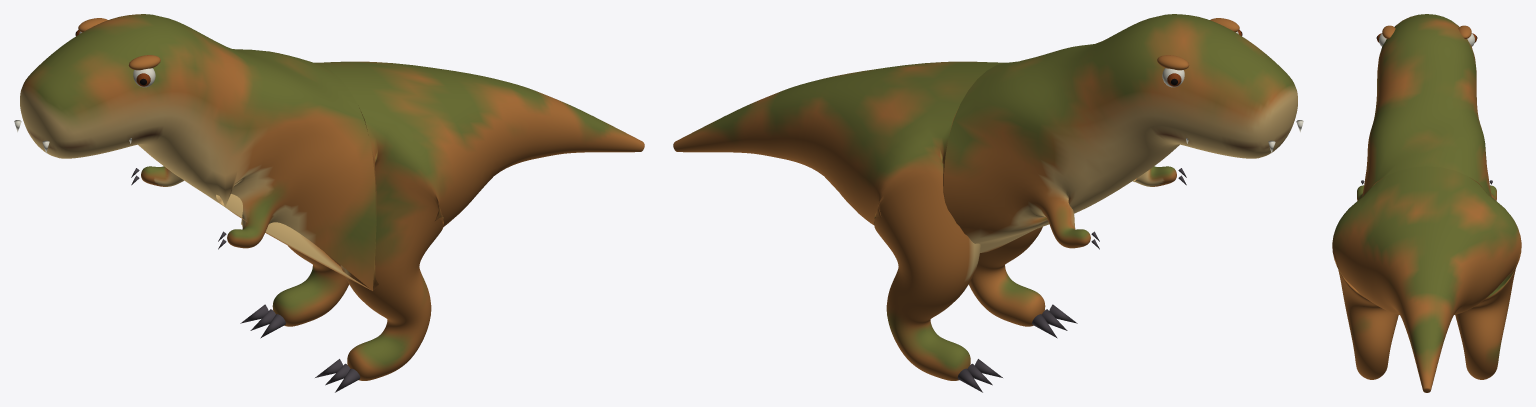
The model's file is trex.glb.
3 renders of one model, left to right at view 1: azimuth 30°, elevation 25°; view 2: azimuth 150°, elevation 25°; view 3: azimuth 270°, elevation 25°, orthographic. The views are drawn at different scales.
Parts seen in each view (by area): view 1: trex; view 2: trex; view 3: trex.
Boxes of the visible parts, <box> form: trex: <box>14,14,644,392</box>; trex: <box>673,14,1303,392</box>; trex: <box>1332,14,1521,392</box>.
Size of the model in its own units: 5.06 by 2.96 by 1.83.
